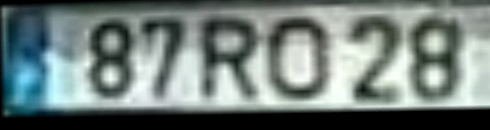2: (342, 12, 411, 109)
7: (136, 18, 193, 107)
8: (404, 13, 472, 107), (86, 19, 138, 106)
O: (266, 14, 334, 107)
R: (194, 17, 265, 108)
